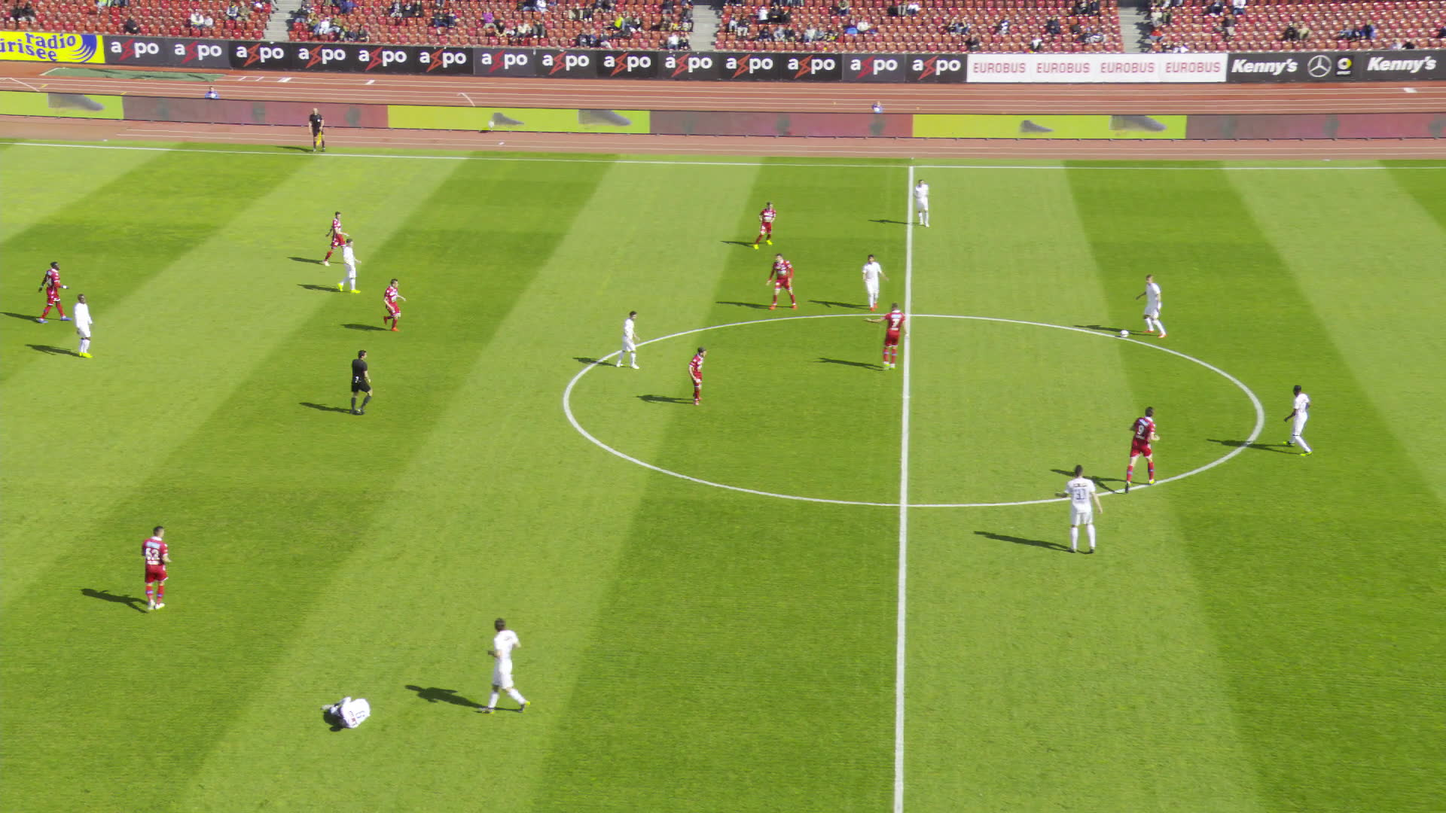ball: (1121, 329, 1129, 337)
player: (484, 616, 535, 714), (1057, 464, 1106, 553), (868, 302, 913, 370), (1128, 407, 1161, 494), (144, 525, 175, 613), (1283, 384, 1316, 456), (35, 261, 72, 323), (1139, 273, 1169, 337), (770, 251, 801, 310), (323, 696, 373, 729), (864, 253, 892, 310), (336, 238, 365, 293), (380, 276, 406, 330), (324, 209, 349, 264), (619, 310, 642, 368), (74, 292, 93, 358), (756, 200, 779, 249), (691, 347, 709, 405), (917, 178, 933, 227)
referee: (351, 349, 374, 414), (311, 106, 328, 151)
